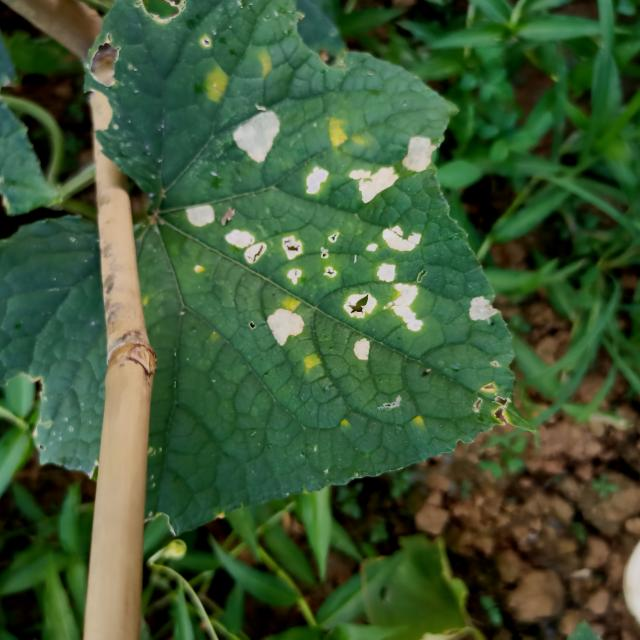disease_cucumber: (225, 218, 436, 362), (224, 105, 288, 170), (346, 167, 400, 206), (322, 116, 371, 155), (172, 198, 221, 233), (400, 135, 440, 173), (196, 66, 235, 103), (299, 166, 334, 200), (253, 53, 276, 76), (300, 352, 324, 372), (280, 294, 301, 312)
